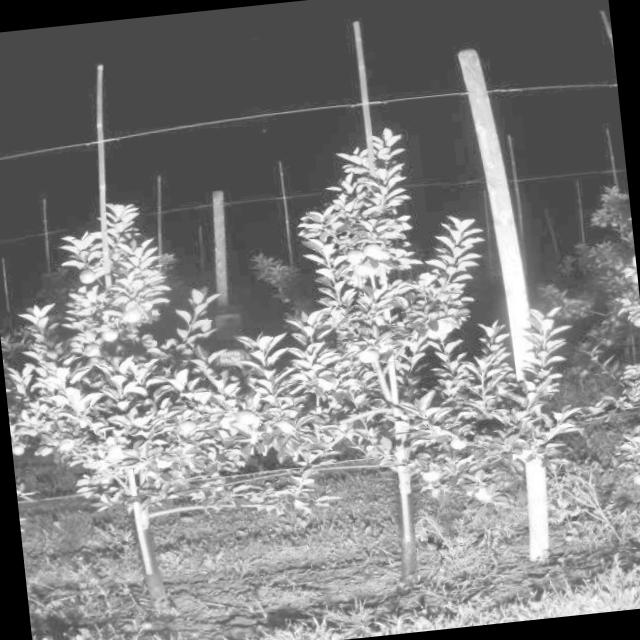Tree: (0, 192, 259, 597), (271, 125, 461, 560), (600, 174, 640, 503)
